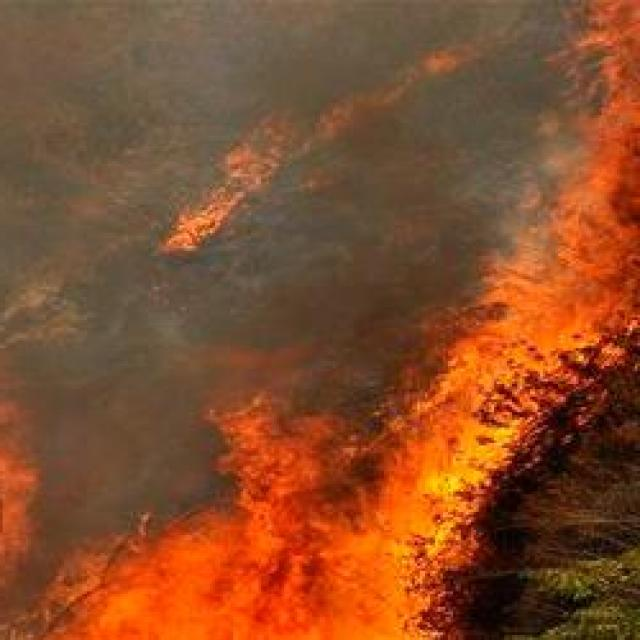fire: (1, 404, 507, 640), (420, 31, 640, 400)
